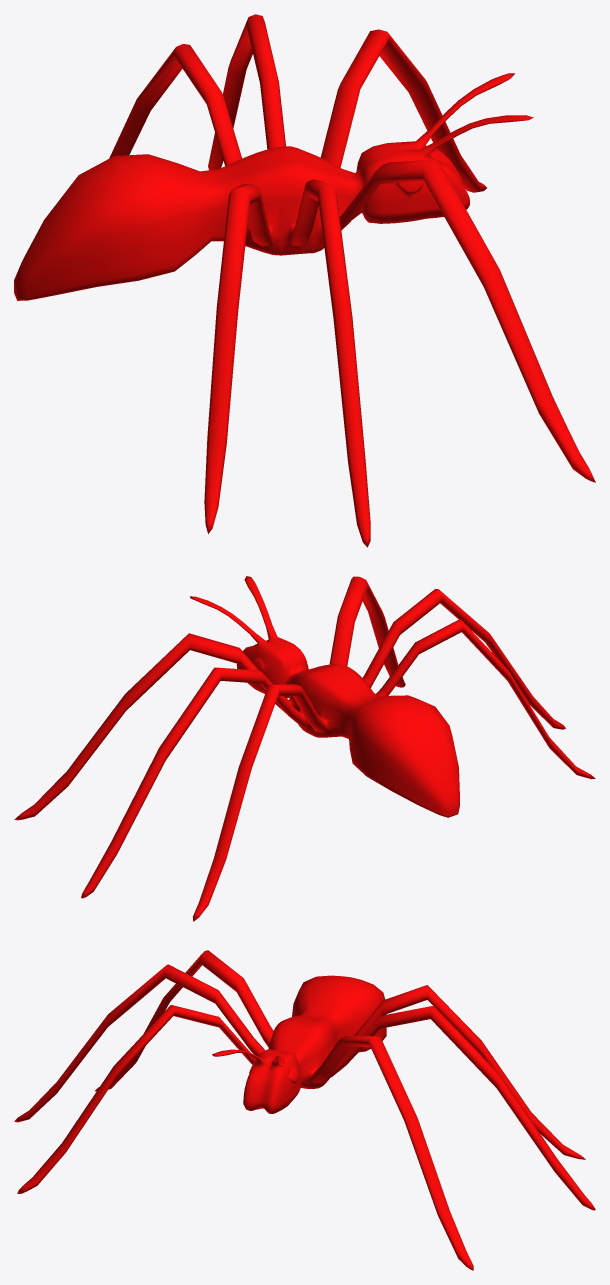
The model's file is LowPolyAnt_Ver4.FBX.
The picture shows the model from 3 angles, top to bottom: view 1: azimuth 30°, elevation 25°; view 2: azimuth 150°, elevation 25°; view 3: azimuth 270°, elevation 25°; orthographic projection. The views are drawn at different scales.
Visible parts, largest first — view 1: Box002; view 2: Box002; view 3: Box002.
Part boxes in pixels (x1,y1,x2,y2): Box002: (14,14,595,547); Box002: (14,576,595,921); Box002: (14,950,595,1270).
Size of the model in its own units: 13.66 by 6.31 by 18.1.
